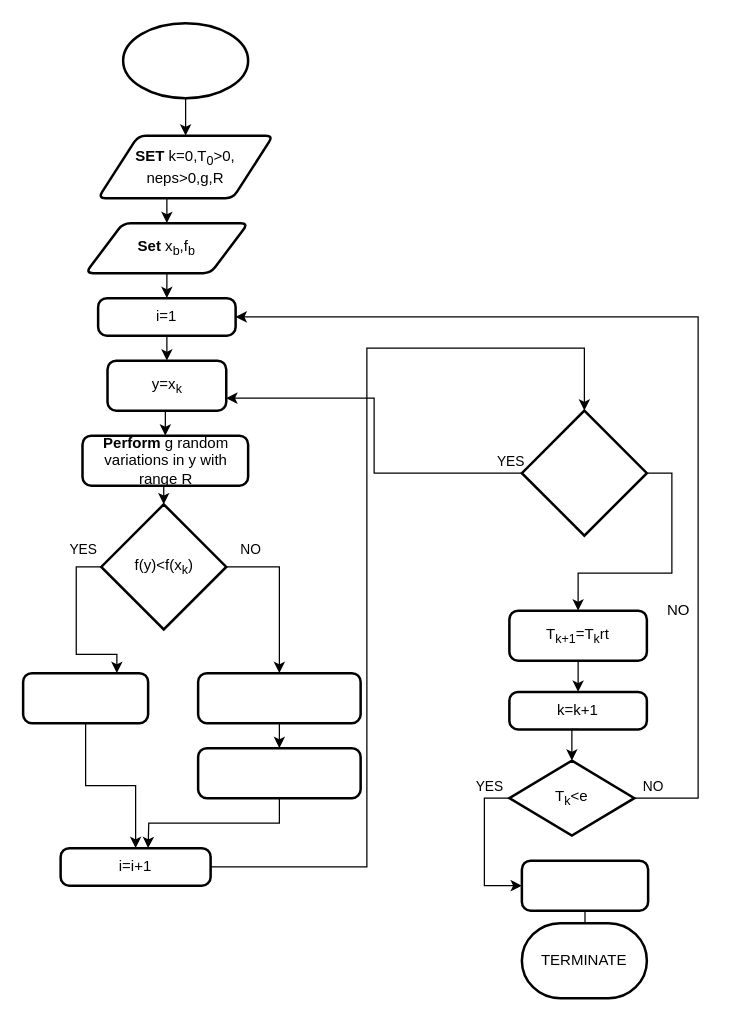
This 730x1020 diagram has some shape labels left out. The shapes that lost their labels are listed below. From the top down, each one's centre as x and y in pixels, then its label:
At pixel 185 60: "START".
At pixel 584 472: "i<neps".
At pixel 85 697: "x k+1 =y".
At pixel 278 697: "p=min(1,exp(-(f(y)-f(x k ))/T k ))".
At pixel 278 772: "Set xk+1=y with probability p".
At pixel 584 885: "Obtain the best value x b".
